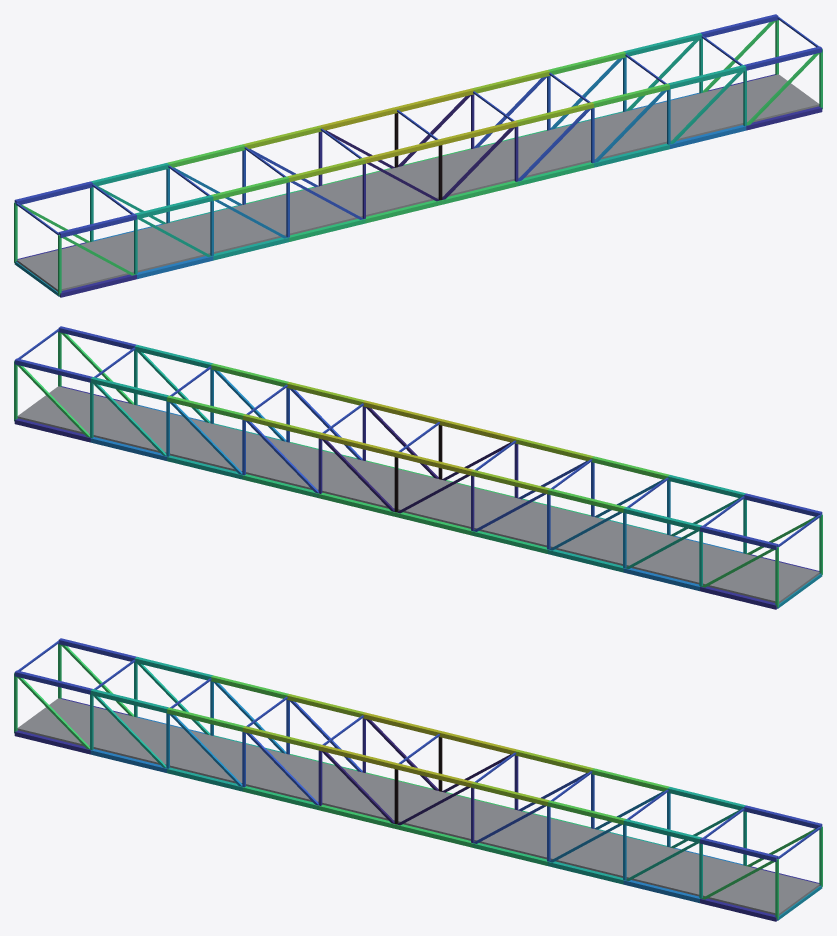
The model's file is 30_2.25_10_HEA200.glb.
3 views of the same model, one above another, from view 1: azimuth 30°, elevation 25°; view 2: azimuth 150°, elevation 25°; view 3: azimuth 330°, elevation 25° (orthographic).
Bounding box in the file's own units: 30.09 × 2.41 × 3.16.
